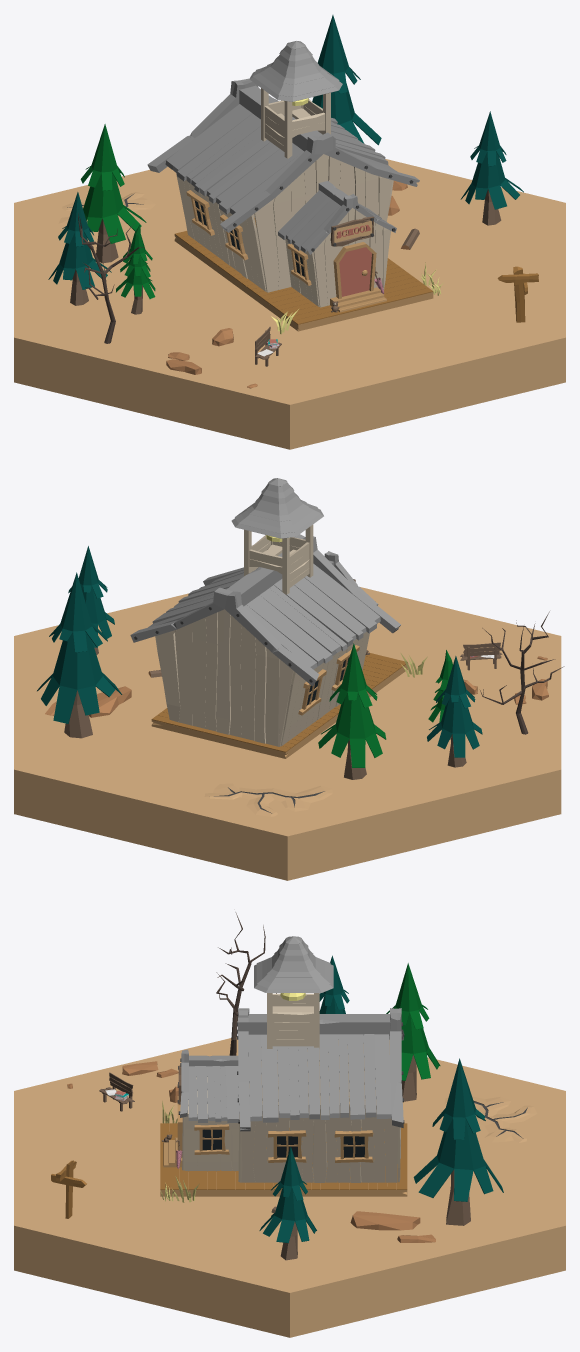
The model's file is Tile_10.fbx.
The picture shows the model from 3 angles, top to bottom: view 1: azimuth 30°, elevation 25°; view 2: azimuth 150°, elevation 25°; view 3: azimuth 270°, elevation 25°; orthographic projection.
Visible parts, largest first — view 1: Tile_10_Base, Tile_10_Building_School, Tile_10, Tile_10_Tree, Tile_10_Sign_School, Tile_10_Signpost; view 2: Tile_10_Base, Tile_10_Building_School, Tile_10, Tile_10_Tree, Tile_10_Bench; view 3: Tile_10_Base, Tile_10_Building_School, Tile_10, Tile_10_Tree, Tile_10_Signpost, Tile_10_Bench.
Part boxes in pixels (x1,y1,x2,y2): Tile_10_Base: [14, 159, 565, 449]; Tile_10_Building_School: [147, 41, 433, 331]; Tile_10: [48, 15, 523, 388]; Tile_10_Tree: [78, 213, 144, 343]; Tile_10_Sign_School: [330, 216, 374, 246]; Tile_10_Signpost: [497, 266, 538, 322]; Tile_10_Base: [14, 587, 561, 880]; Tile_10_Building_School: [130, 478, 408, 758]; Tile_10: [37, 546, 548, 816]; Tile_10_Tree: [480, 611, 564, 734]; Tile_10_Bench: [460, 642, 502, 670]; Tile_10_Base: [14, 1037, 565, 1337]; Tile_10_Building_School: [160, 936, 407, 1196]; Tile_10: [67, 955, 537, 1260]; Tile_10_Tree: [216, 912, 276, 1055]; Tile_10_Signpost: [51, 1160, 86, 1218]; Tile_10_Bench: [99, 1072, 134, 1111].
Size of the model in its own units: 2318 by 2007 by 1087.
